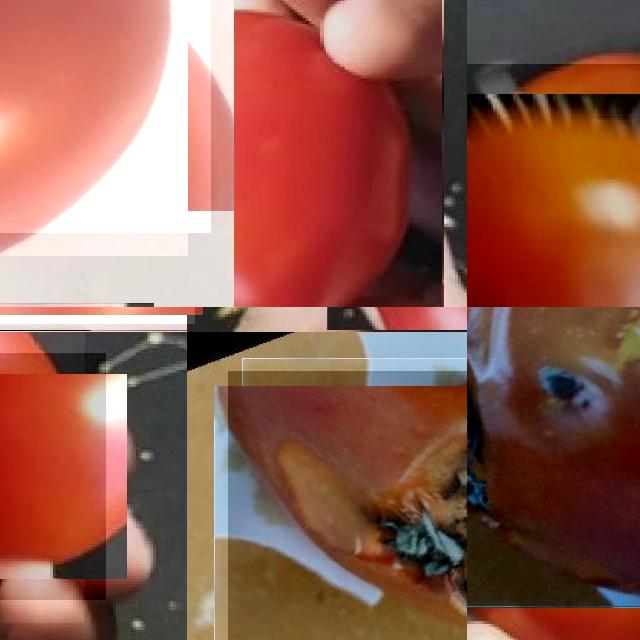0: (467, 64, 640, 307)
Fresh Tomato: (234, 0, 442, 307), (0, 0, 211, 233), (0, 353, 106, 600)
Rotten Tomato: (228, 371, 467, 640), (467, 307, 640, 608)
